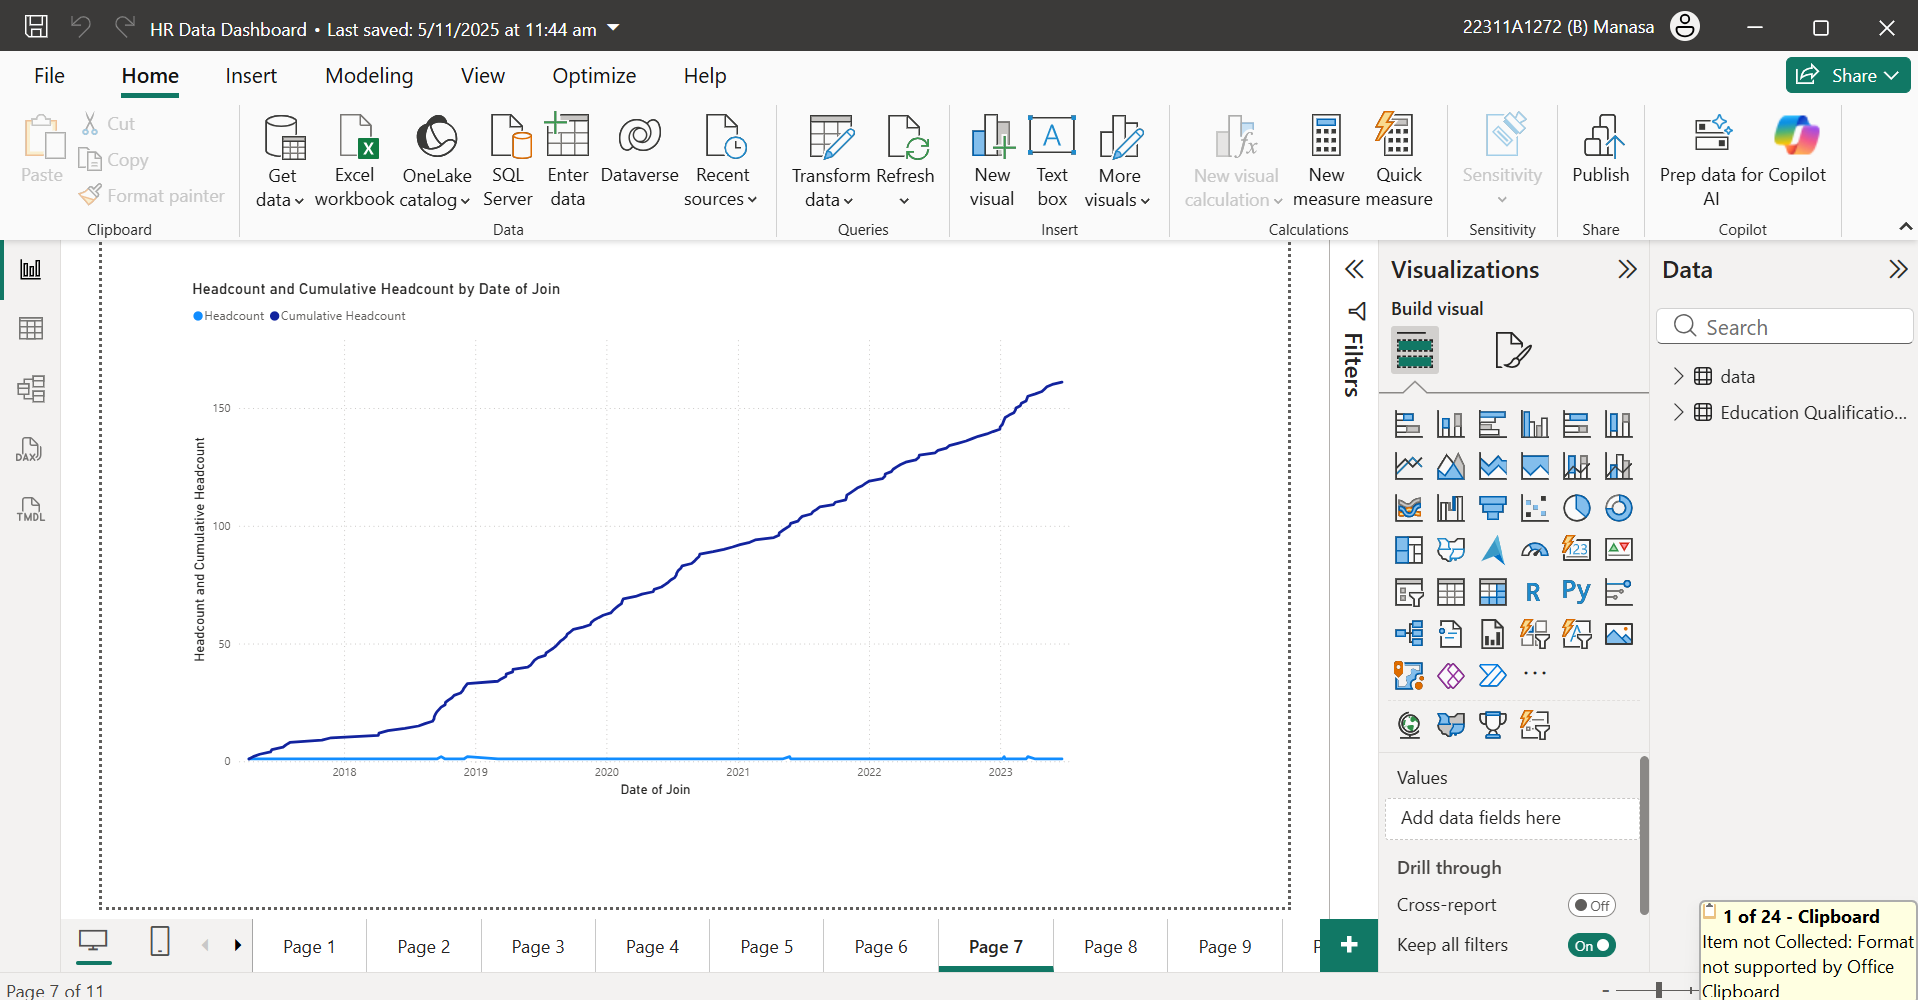

The page's visual inventory and layout, read from the dashboard file:
{"tool":"powerbi","page":{"name":"Page 7","canvas":[1280,720],"ordinal":6},"visuals":[{"type":"lineChart","fields":{"Y":["data.Headcount","data.Cumulative Headcount"],"Category":["data.Date of Join"]},"box":[91.7,41.7,961.7,563.3],"z":0}]}

Visuals, with their boxes on the page's 1280x720 design canvas (x1, y1, x2, y2). These are canvas units, not pixel positions in the 1918x1000 screenshot, which may show the page scaled, cropped or inside an application window:
lineChart - data.Headcount x data.Cumulative Headcount: pyautogui.locateOnScreen(92, 42, 1053, 605)
